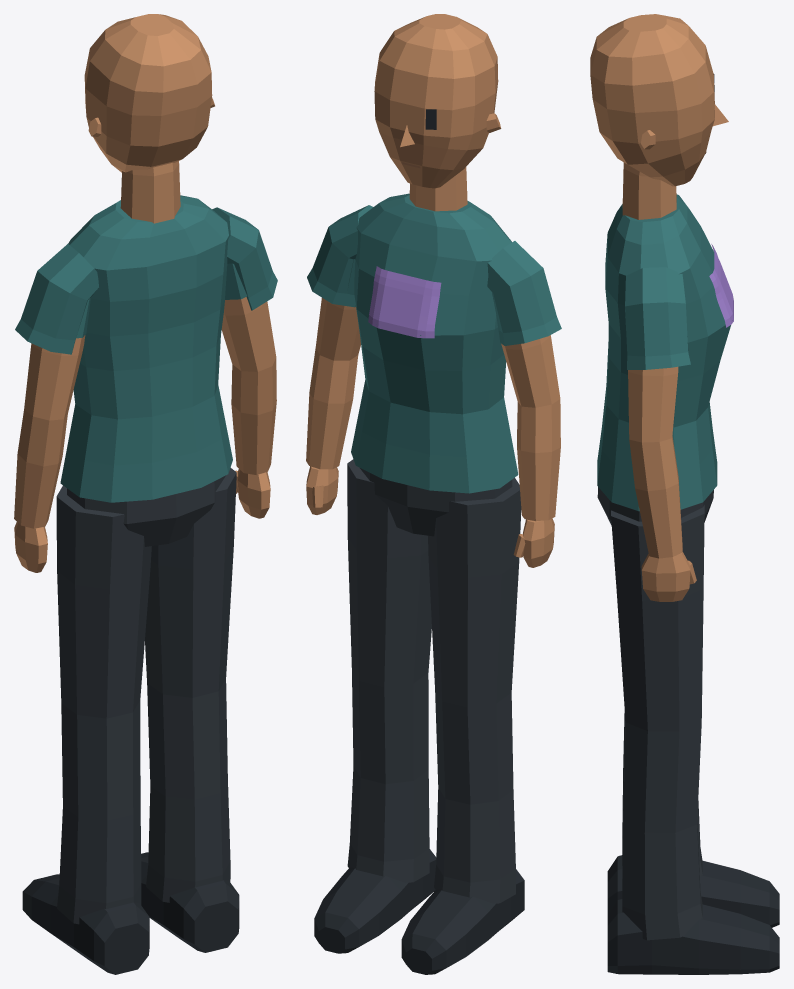
The model's file is lwf_performer_female_body_v2.glb.
3 views of the same model, side by side, from view 1: azimuth 30°, elevation 25°; view 2: azimuth 150°, elevation 25°; view 3: azimuth 270°, elevation 25° (orthographic). The views are drawn at different scales.
Visible parts, largest first — view 1: LWF_Performer_BodyCore, LWF_Performer_IdleLeftArm, LWF_Performer_IdleRightArm; view 2: LWF_Performer_BodyCore, LWF_Performer_IdleLeftArm, LWF_Performer_IdleRightArm; view 3: LWF_Performer_BodyCore, LWF_Performer_IdleLeftArm, LWF_Performer_IdleRightArm.
Boxes of the visible parts, bbox=[...] form: LWF_Performer_BodyCore: bbox=[22, 14, 239, 974]; LWF_Performer_IdleLeftArm: bbox=[14, 195, 232, 572]; LWF_Performer_IdleRightArm: bbox=[212, 207, 277, 518]; LWF_Performer_BodyCore: bbox=[314, 14, 524, 974]; LWF_Performer_IdleLeftArm: bbox=[351, 193, 561, 567]; LWF_Performer_IdleRightArm: bbox=[306, 205, 373, 514]; LWF_Performer_BodyCore: bbox=[590, 14, 779, 974]; LWF_Performer_IdleLeftArm: bbox=[597, 194, 732, 511]; LWF_Performer_IdleRightArm: bbox=[625, 267, 696, 601].
Bounding box in the file's own units: 0.4694 × 1.66 × 0.3077.
Materials: 1 (1 with a texture image).
